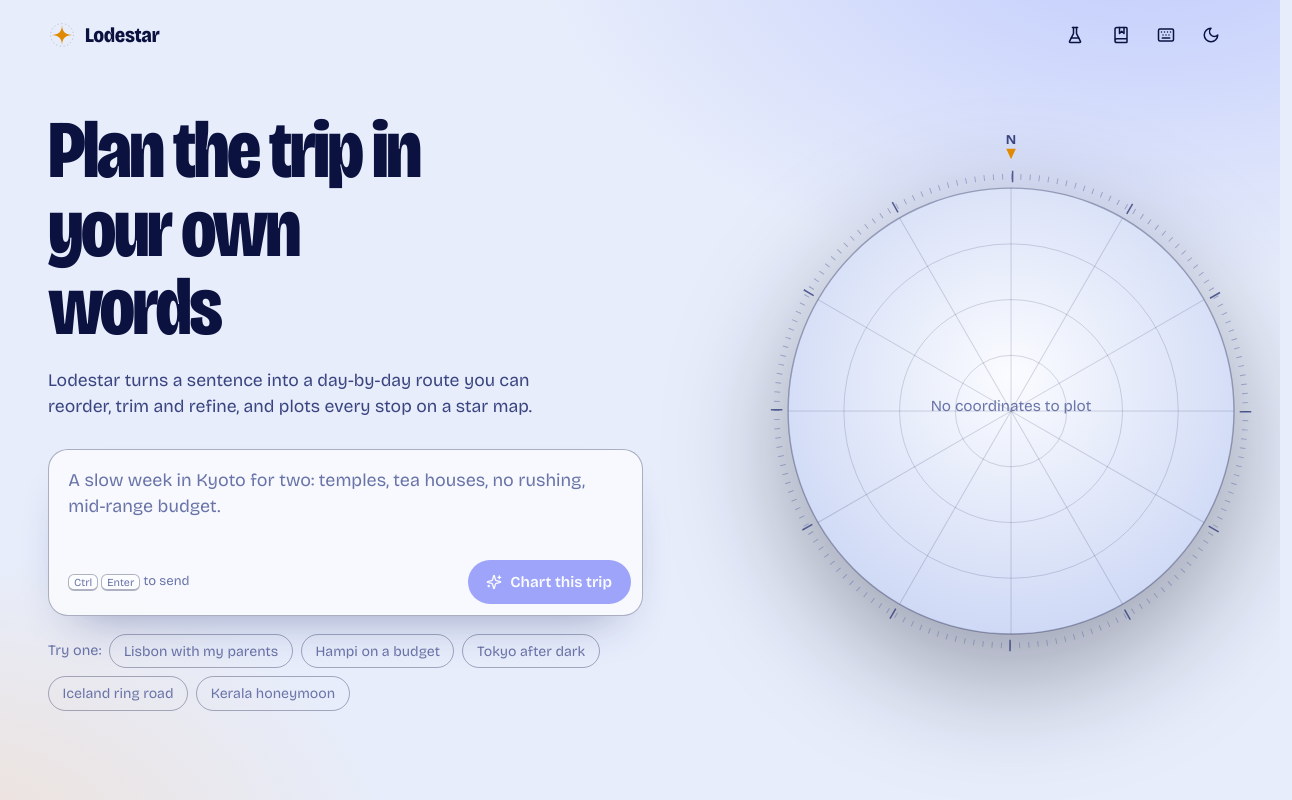
Test: App › recovers a whole-object reply in another shape without a false "skipped" warning
Replace the text in the text box named "describe your trip" with "Three days somewhere nice" at (345, 501), box 49,450 -> 642,552
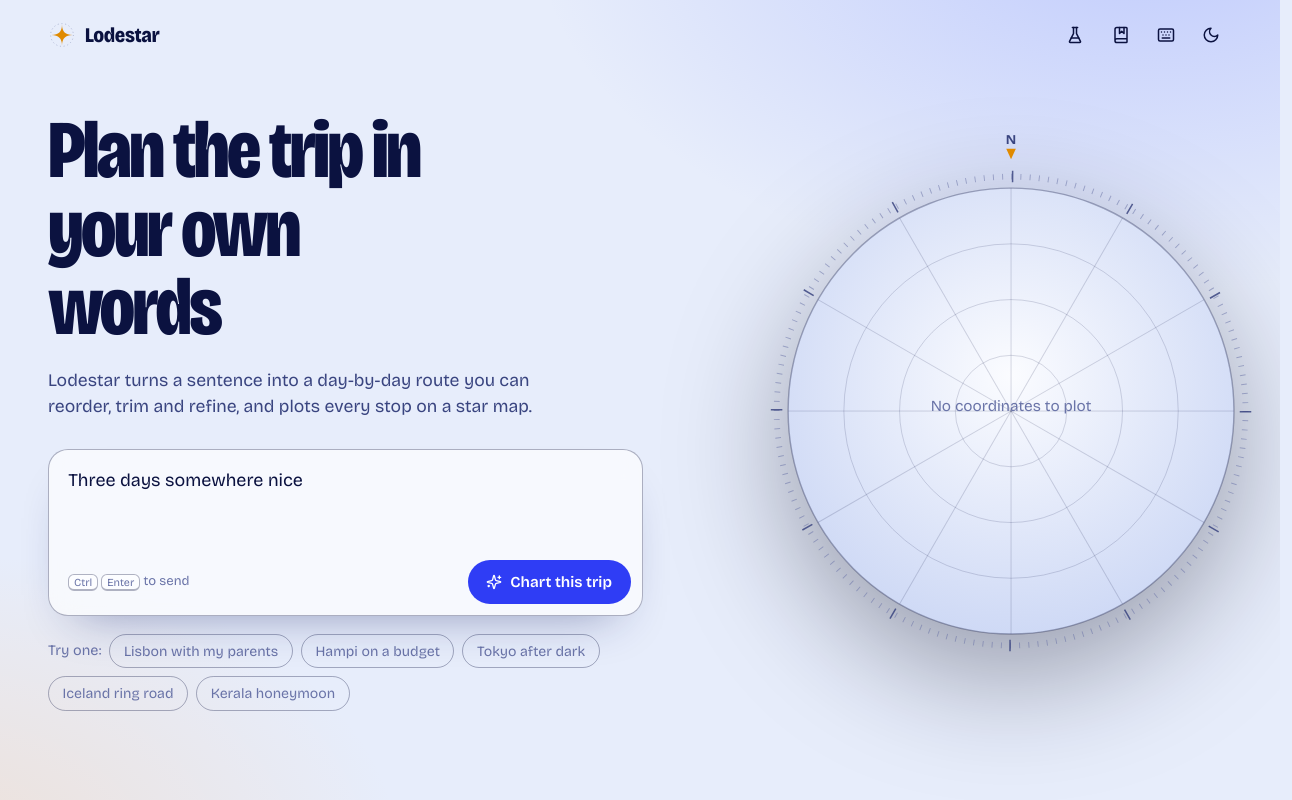
Click the button "Chart this trip" at (549, 582), box 468,560 -> 630,604
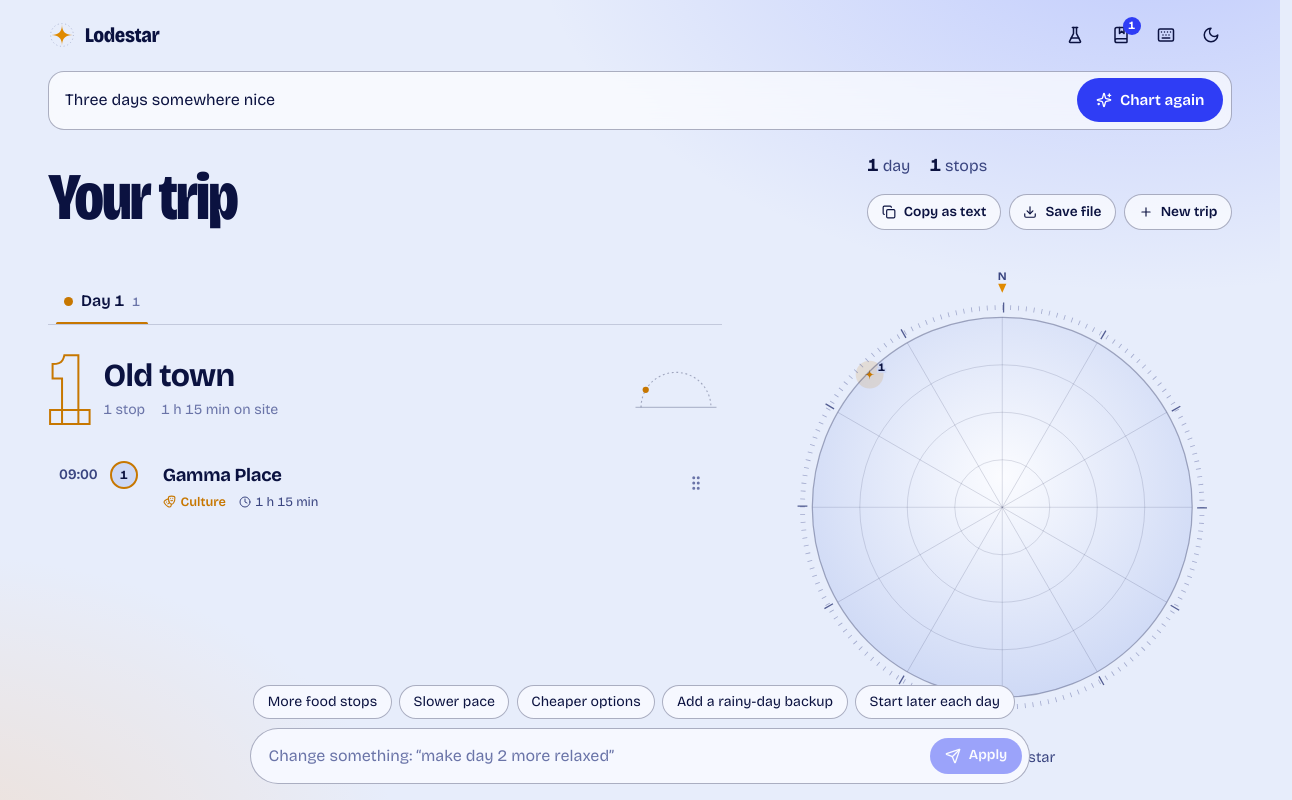
Now the text "Gamma Place" is shown, box 163,464 -> 282,486
